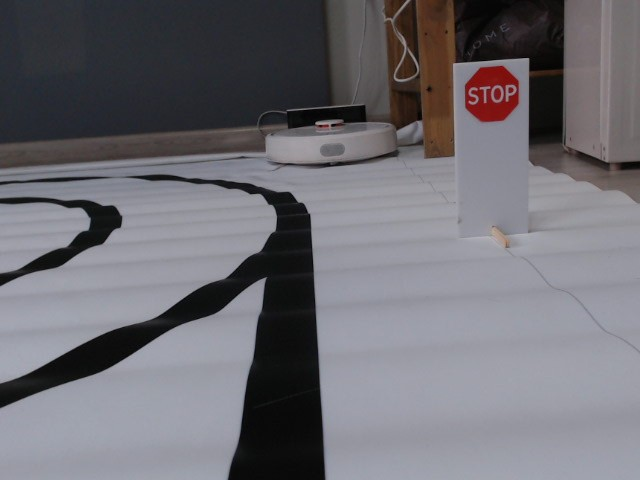Stop: (465, 63, 520, 125)
